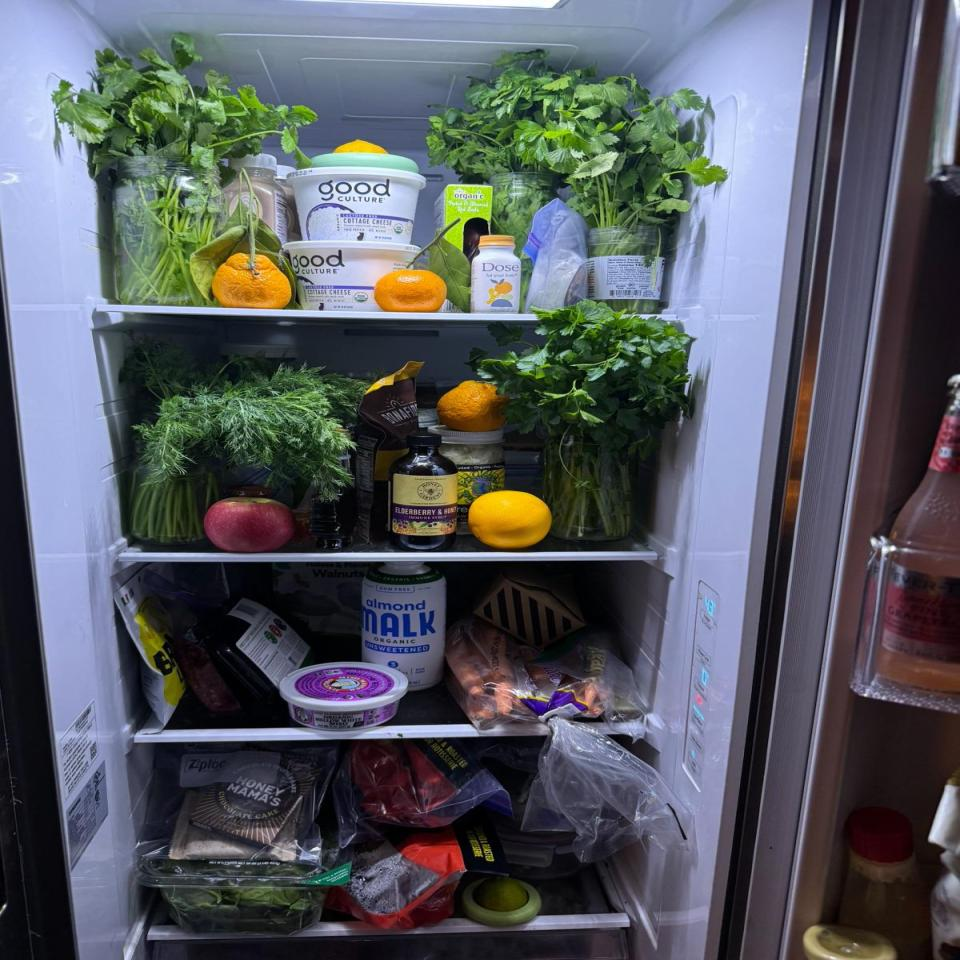Limón: (327, 140, 389, 153)
Manzana: (207, 496, 292, 552)
Zanahoria: (445, 632, 643, 728)
